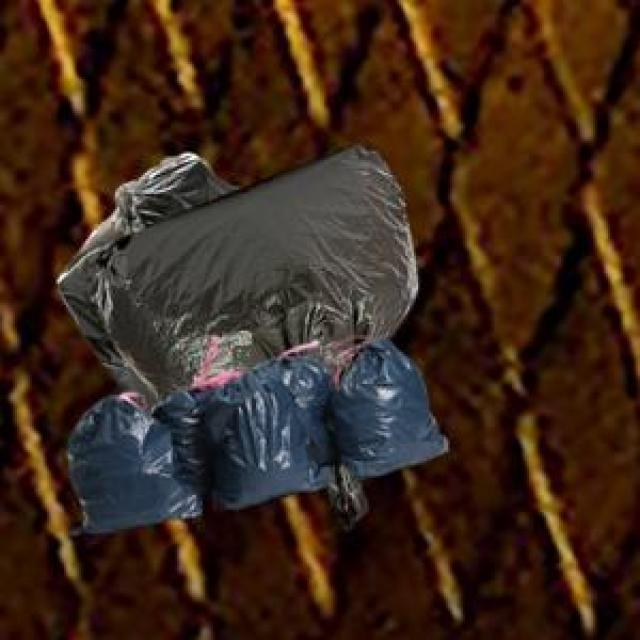waste: (61, 148, 418, 396)
